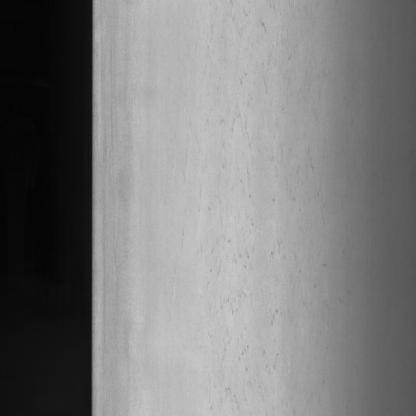silk_spot: (198, 21, 323, 416)
